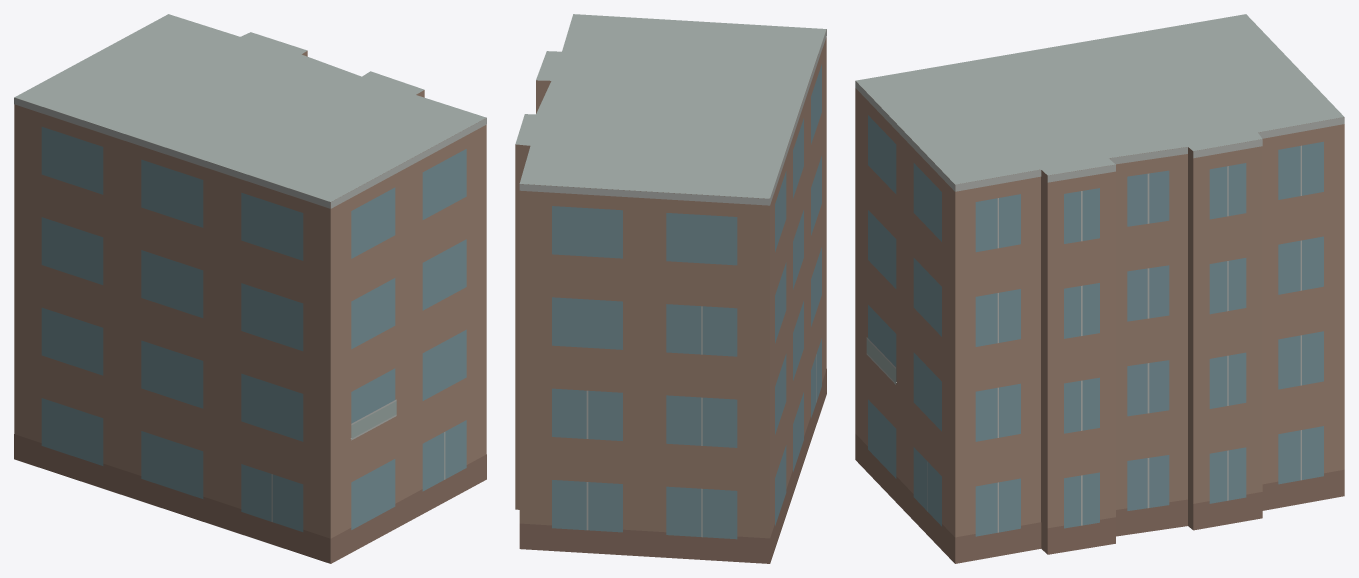
The model's file is survey-upis-32956936.glb.
3 views of the same model, side by side, from view 1: azimuth 30°, elevation 25°; view 2: azimuth 150°, elevation 25°; view 3: azimuth 270°, elevation 25° (orthographic). The views are drawn at different scales.
Parts seen in each view (by area): view 1: survey-upis-32956936.tmp; view 2: survey-upis-32956936.tmp; view 3: survey-upis-32956936.tmp.
Boxes of the visible parts, <box> form: survey-upis-32956936.tmp: <box>14,14,486,563</box>; survey-upis-32956936.tmp: <box>515,14,826,563</box>; survey-upis-32956936.tmp: <box>855,14,1344,563</box>.
Bounding box in the file's own units: 12.56 × 13 × 15.21.
